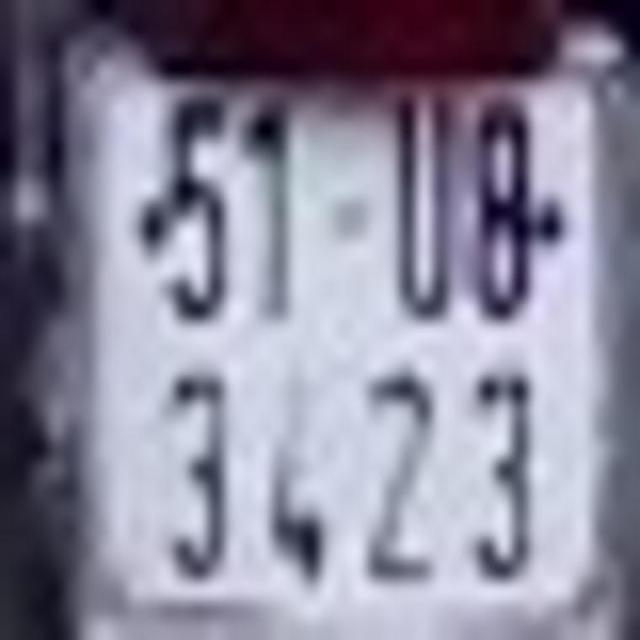1: (250, 105, 298, 321)
2: (358, 375, 441, 582)
3: (166, 371, 237, 584), (472, 388, 538, 583)
4: (278, 384, 328, 583)
5: (156, 102, 242, 316)
8: (472, 110, 532, 316)
U: (386, 103, 459, 320)
